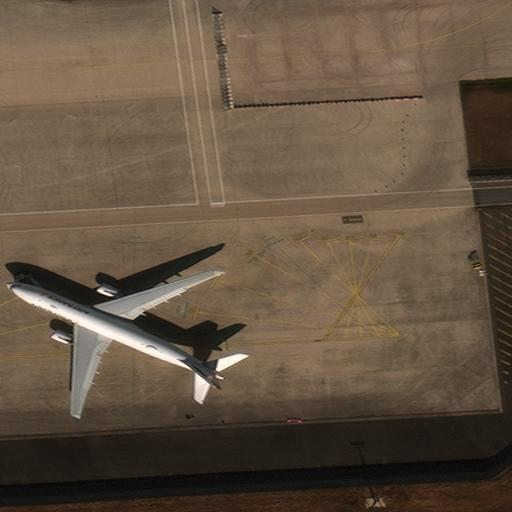Large Civil Transport: (7, 269, 225, 414)
